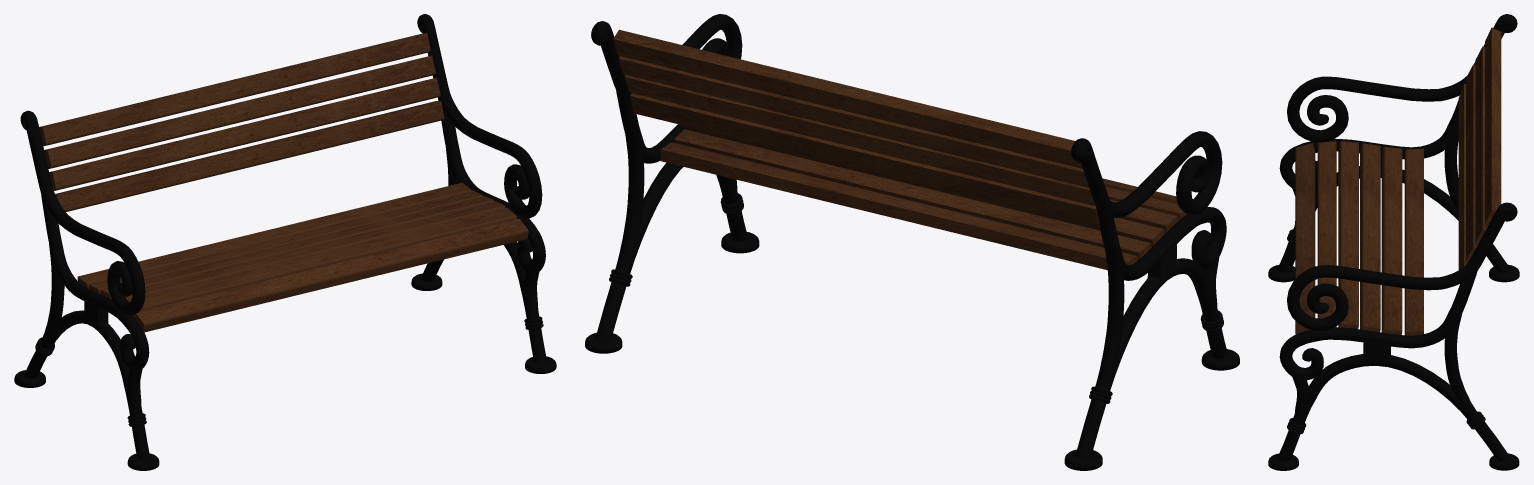
Rendered from banca.obj.
3 views of the same model, side by side, from view 1: azimuth 30°, elevation 25°; view 2: azimuth 150°, elevation 25°; view 3: azimuth 270°, elevation 25° (orthographic). The views are drawn at different scales.
Parts seen in each view (by area): view 1: Spiral_002_Lehne_001, Cube_001_Holz_001, Spiral_005_Lehne_001, Cube_007_Holz_001, Cube_010_Holz_001, Cube_009_Holz_001, Cube_008_Holz_001, Cube_002_Holz_001, Cube_006_Holz_001, Cube_003_Holz_001, Cube_005_Holz_001, Cube_004_Holz_001; view 2: Spiral_002_Lehne_001, Cube_010_Holz_001, Cube_006_Holz_001, Cube_007_Holz_001, Spiral_005_Lehne_001, Cube_009_Holz_001, Cube_008_Holz_001, Cube_005_Holz_001, Cube_004_Holz_001, Cube_003_Holz_001, Cube_002_Holz_001; view 3: Spiral_005_Lehne_001, Spiral_002_Lehne_001, Cube_005_Holz_001, Cube_004_Holz_001, Cube_006_Holz_001, Cube_003_Holz_001, Cube_010_Holz_001, Cube_001_Holz_001, Cube_002_Holz_001, Cube_009_Holz_001, Cube_008_Holz_001, Cube_007_Holz_001 (+4 smaller).
Boxes of the visible parts, <box> form: Spiral_002_Lehne_001: <box>20,110,150,460</box>; Cube_001_Holz_001: <box>134,218,528,332</box>; Spiral_005_Lehne_001: <box>417,14,546,363</box>; Cube_007_Holz_001: <box>55,101,444,211</box>; Cube_010_Holz_001: <box>39,33,430,146</box>; Cube_009_Holz_001: <box>44,55,435,168</box>; Cube_008_Holz_001: <box>49,77,440,190</box>; Cube_002_Holz_001: <box>128,208,517,316</box>; Cube_006_Holz_001: <box>77,182,471,289</box>; Cube_003_Holz_001: <box>125,201,505,300</box>; Cube_005_Holz_001: <box>89,190,482,294</box>; Cube_004_Holz_001: <box>100,196,493,298</box>; Spiral_002_Lehne_001: <box>1071,131,1227,458</box>; Cube_010_Holz_001: <box>613,29,1082,168</box>; Cube_006_Holz_001: <box>660,142,1137,269</box>; Cube_007_Holz_001: <box>630,93,1099,226</box>; Spiral_005_Lehne_001: <box>591,14,747,341</box>; Cube_009_Holz_001: <box>618,56,1088,187</box>; Cube_008_Holz_001: <box>624,75,1095,205</box>; Cube_005_Holz_001: <box>674,129,1151,260</box>; Cube_004_Holz_001: <box>687,126,1164,247</box>; Cube_003_Holz_001: <box>1110,199,1178,233</box>; Cube_002_Holz_001: <box>1105,186,1186,220</box>; Spiral_005_Lehne_001: <box>1277,202,1517,461</box>; Spiral_002_Lehne_001: <box>1277,14,1517,272</box>; Cube_005_Holz_001: <box>1381,147,1402,334</box>; Cube_004_Holz_001: <box>1360,143,1380,332</box>; Cube_006_Holz_001: <box>1404,148,1423,335</box>; Cube_003_Holz_001: <box>1338,141,1358,328</box>; Cube_010_Holz_001: <box>1485,27,1501,227</box>; Cube_001_Holz_001: <box>1295,143,1315,334</box>; Cube_002_Holz_001: <box>1317,141,1336,327</box>; Cube_009_Holz_001: <box>1475,46,1487,245</box>; Cube_008_Holz_001: <box>1466,64,1477,263</box>; Cube_007_Holz_001: <box>1458,84,1466,269</box>.
Bounding box in the file's own units: 65.4 × 39.53 × 34.45.
Materials: 2 (2 with a texture image).
